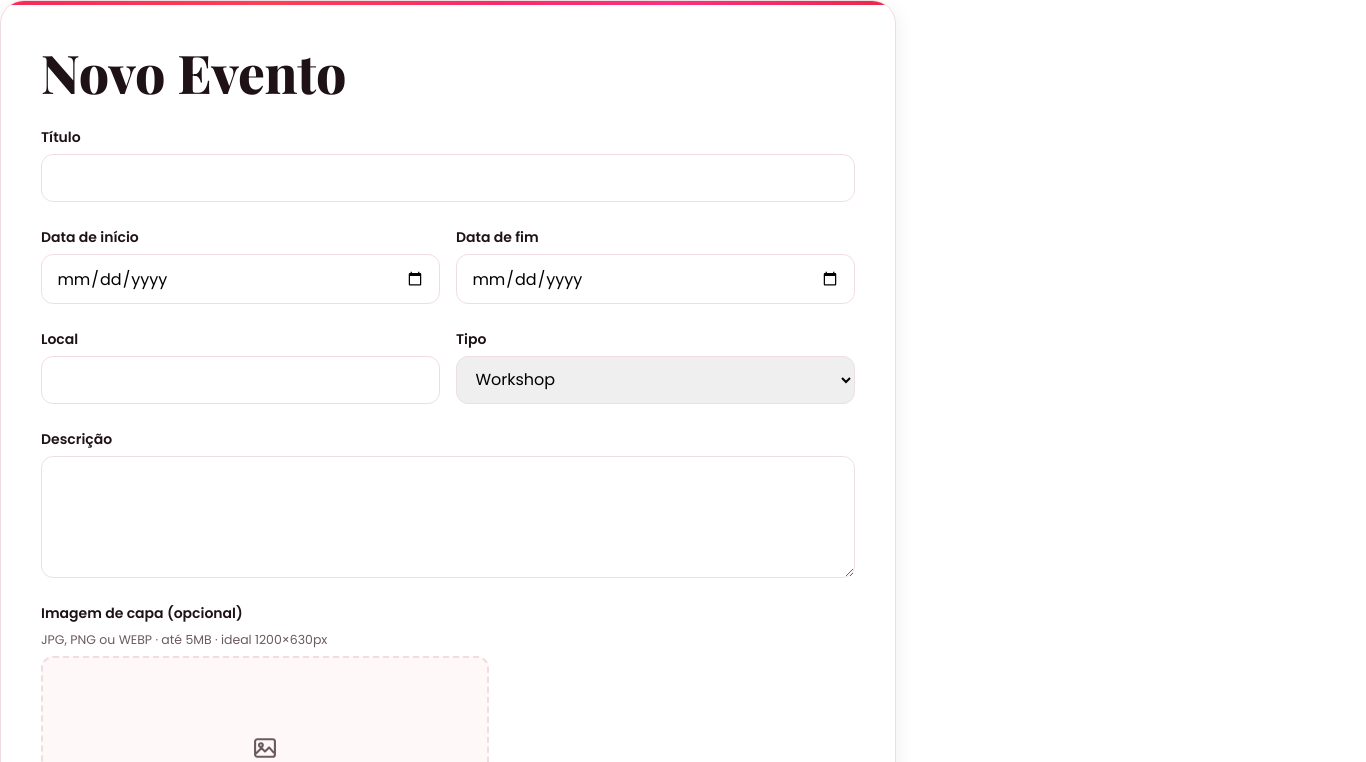
Test case: EventForm (create) › rejects an end date earlier than the start date
In the field labelled "Título": {"x": 448, "y": 178} [41,154,855,202], type "Evento Teste"
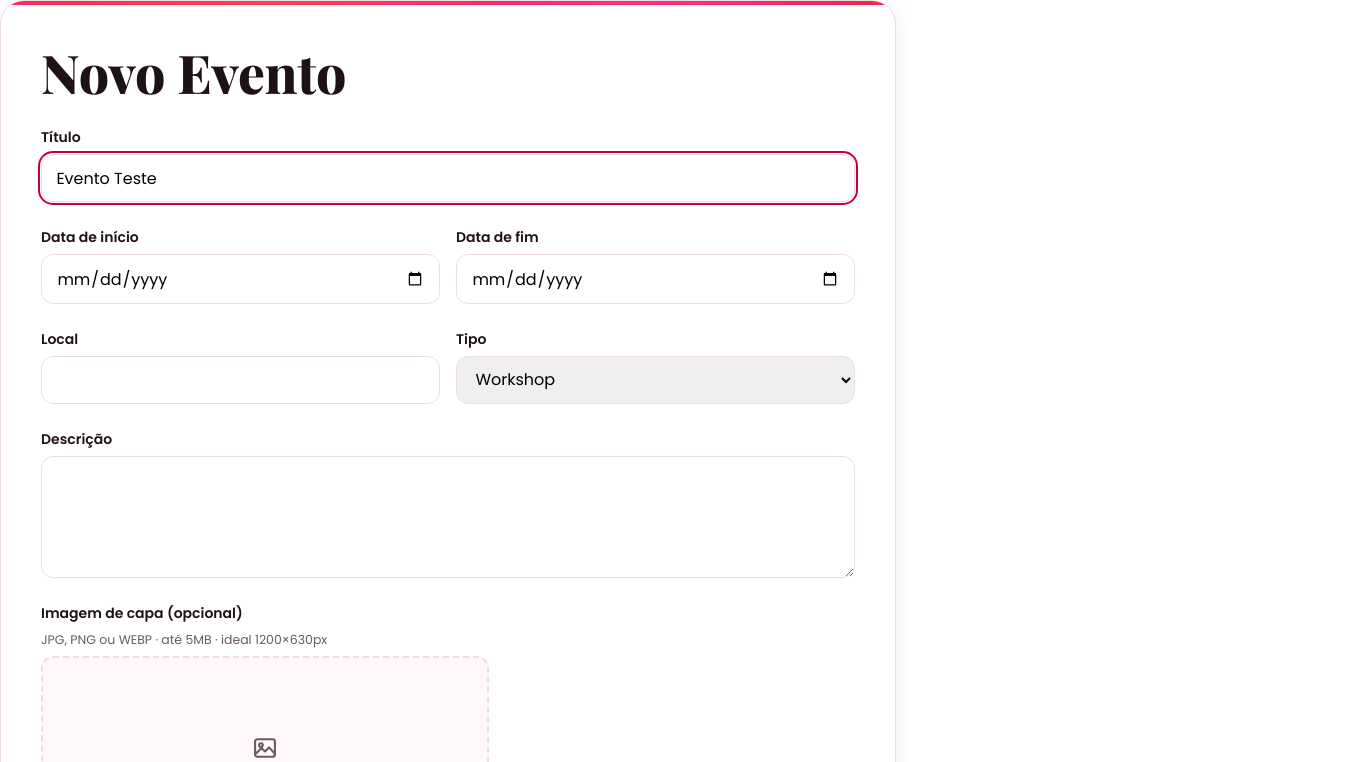
In the date field labelled "Data de início": {"x": 240, "y": 279} [41,254,440,304], type "2026-09-10"
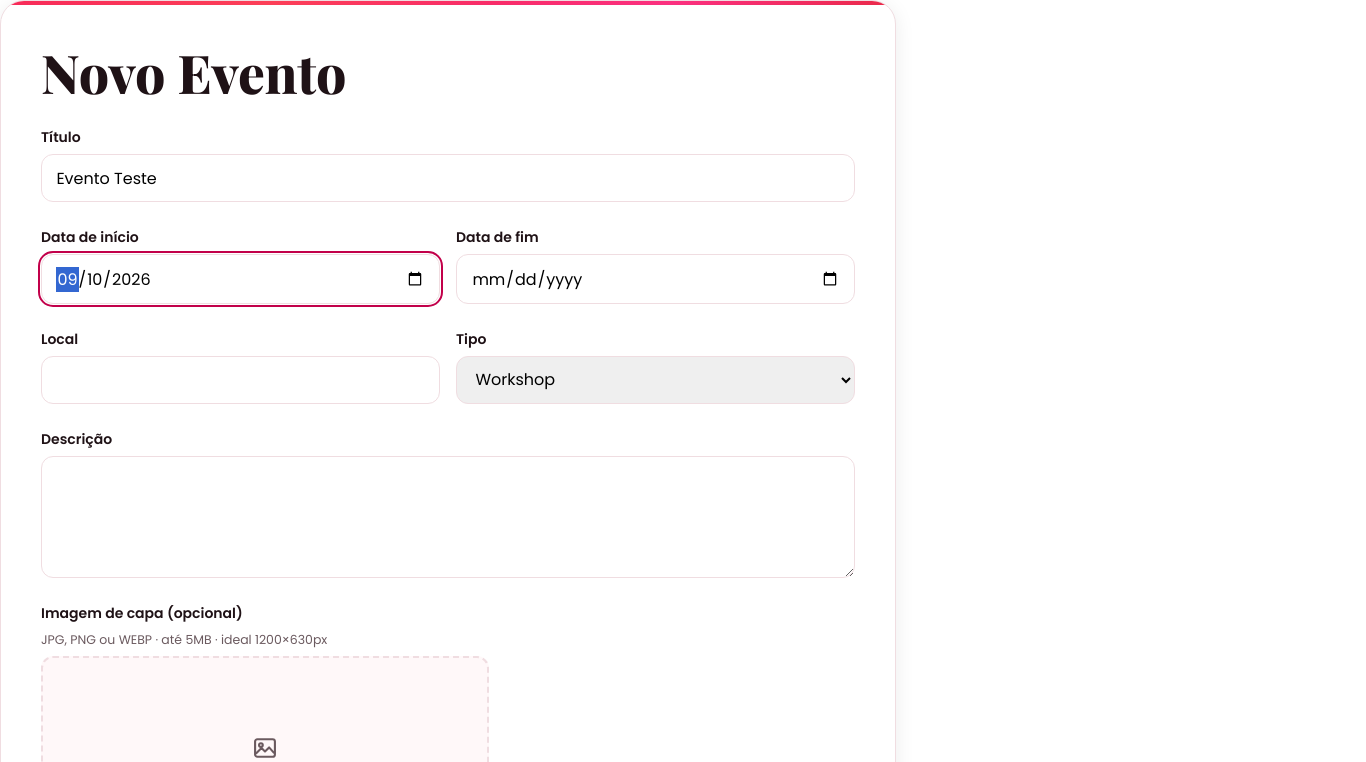
In the date field labelled "Data de fim": {"x": 656, "y": 279} [456,254,855,304], type "2026-09-05"
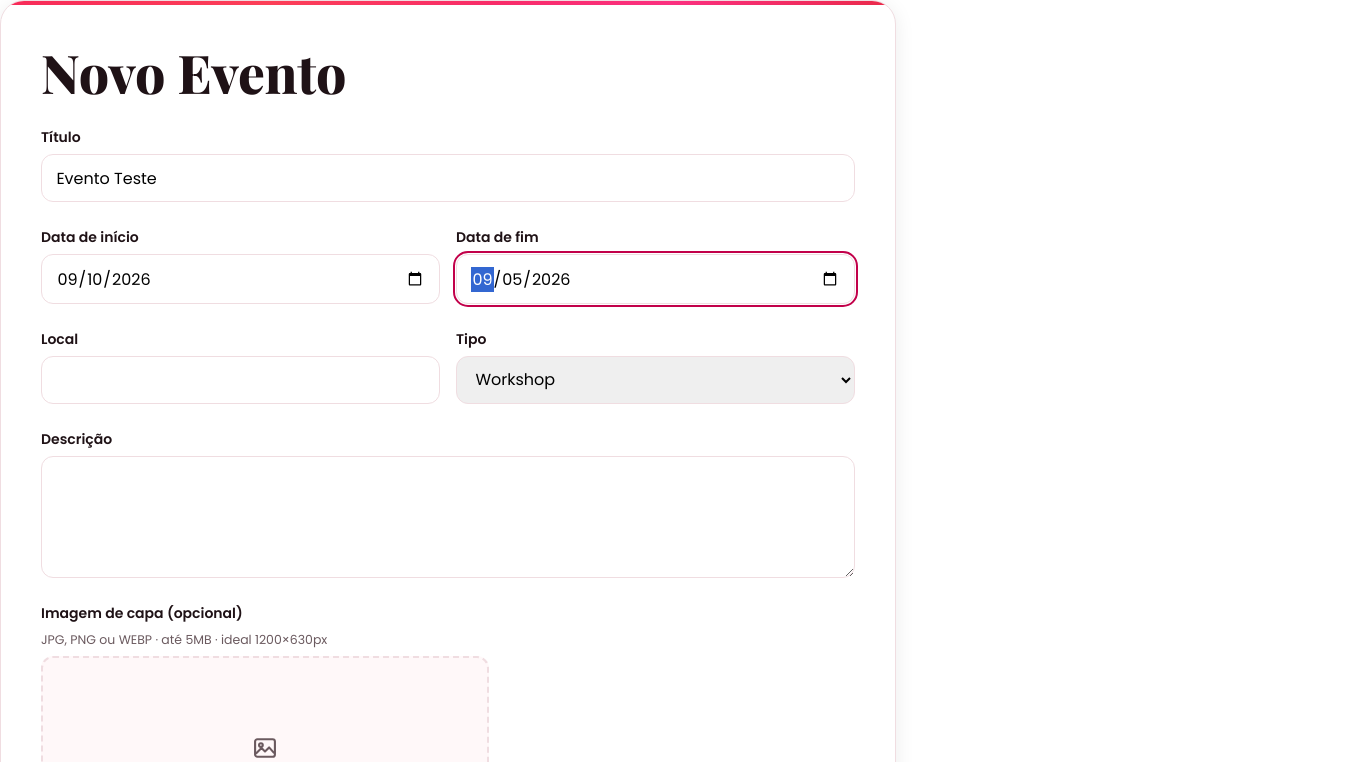
In the field labelled "Local": {"x": 240, "y": 380} [41,356,440,404], type "Auditório"
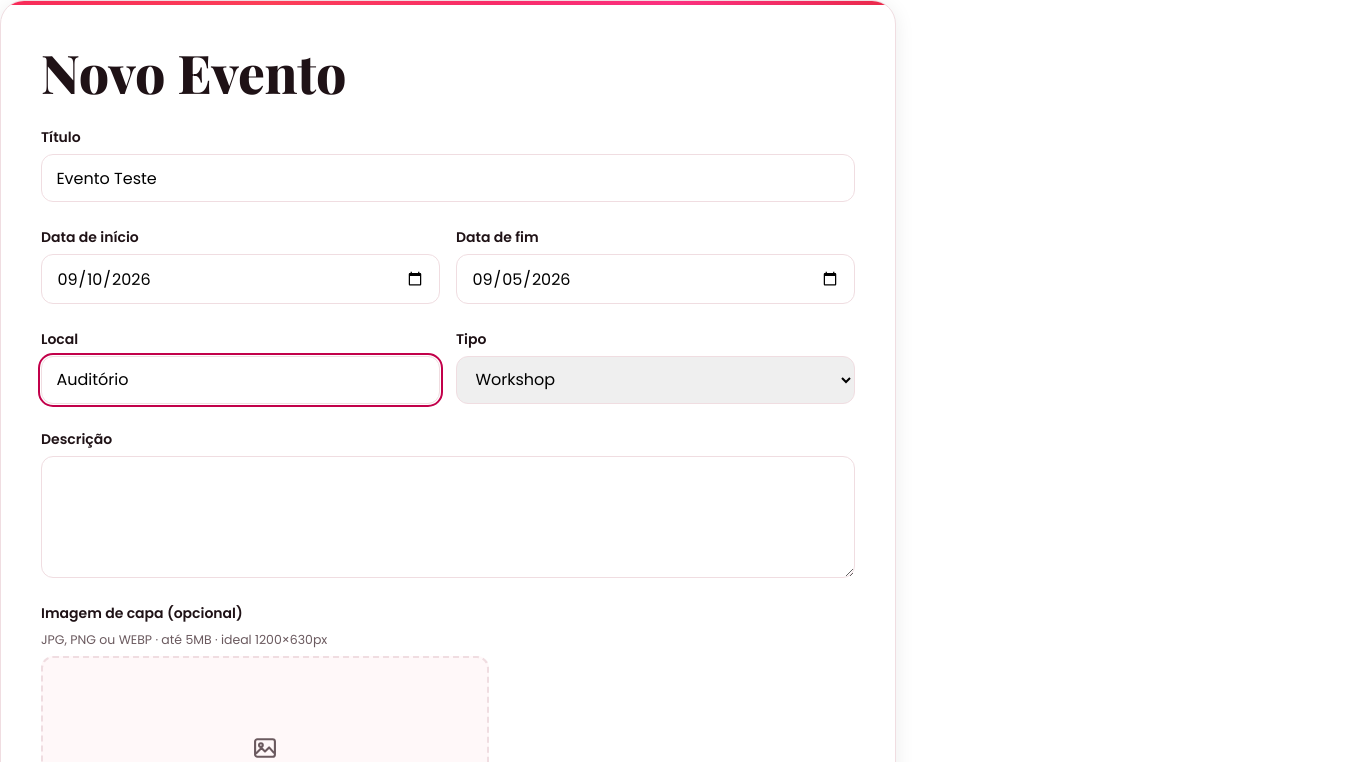
In the text box labelled "Descrição": {"x": 448, "y": 517} [41,456,855,578], type "Descrição do evento"
(page scrolled)
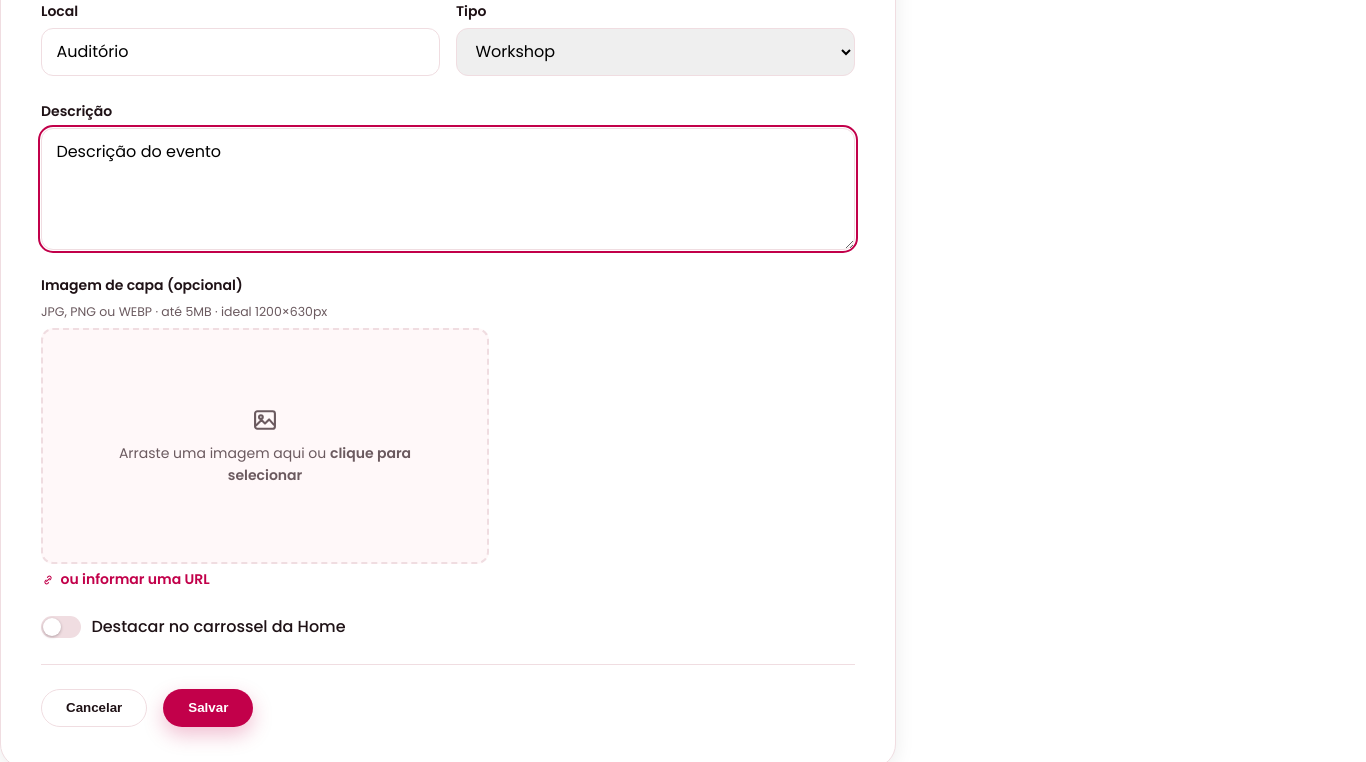
Click the button "Salvar": {"x": 208, "y": 708} [163,689,253,727]
(page scrolled)
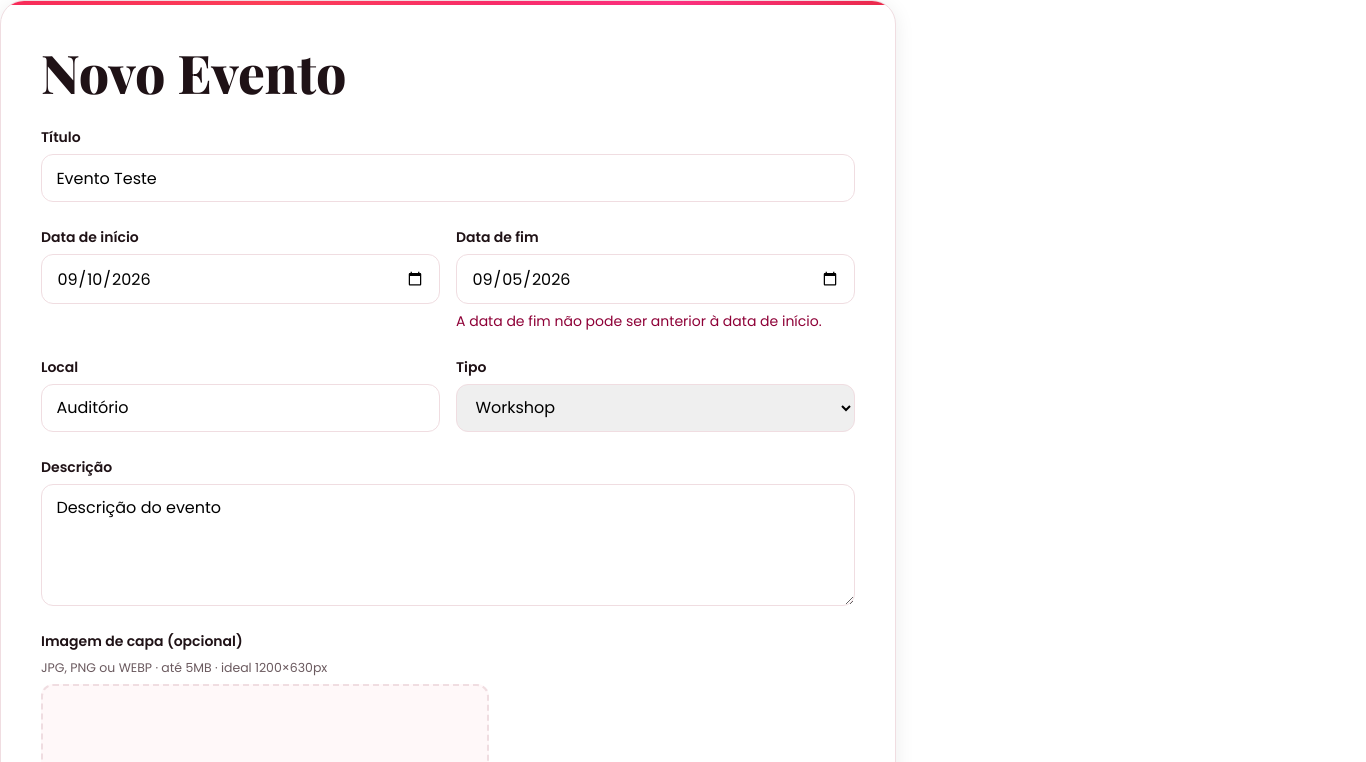
Expected: the text "A data de fim não pode ser anterior à data de início." is shown, [456,310,855,332]
